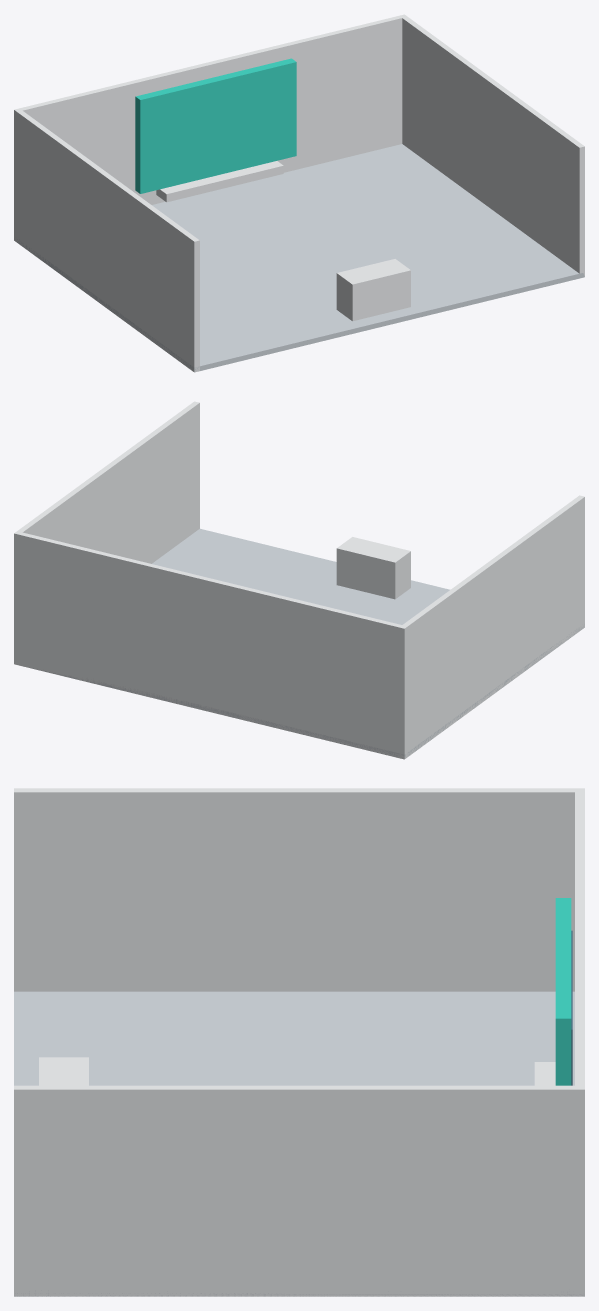
3 views of the same model, one above another, from view 1: azimuth 30°, elevation 25°; view 2: azimuth 150°, elevation 25°; view 3: azimuth 270°, elevation 25° (orthographic). The views are drawn at different scales.
Visible parts, largest first — view 1: Exhibition Booth Concept; view 2: Exhibition Booth Concept; view 3: Exhibition Booth Concept.
Boxes of the visible parts, <box> form: Exhibition Booth Concept: <box>14,14,584,372</box>; Exhibition Booth Concept: <box>14,401,584,759</box>; Exhibition Booth Concept: <box>14,788,584,1296</box>.
Size of the model in its own units: 10 by 3.2 by 8.
